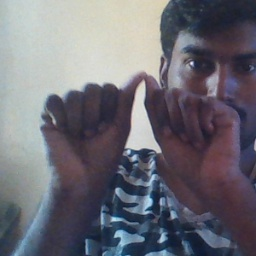A: (63, 68, 227, 181)
